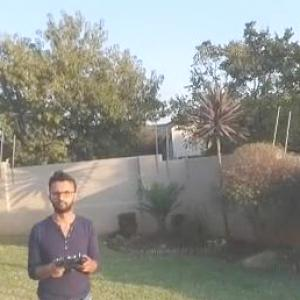follow: (24, 166, 103, 299)
